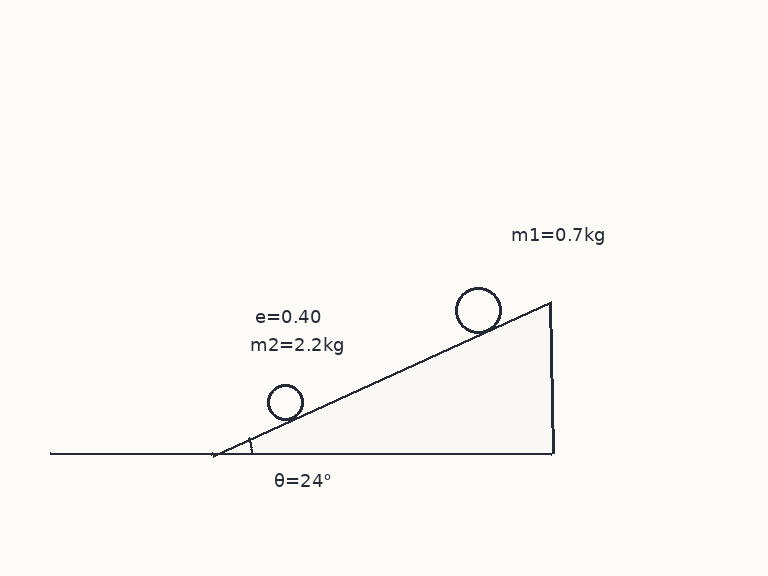ball: (453, 285, 503, 335), (265, 382, 305, 422)
ramp: (210, 301, 554, 456)
